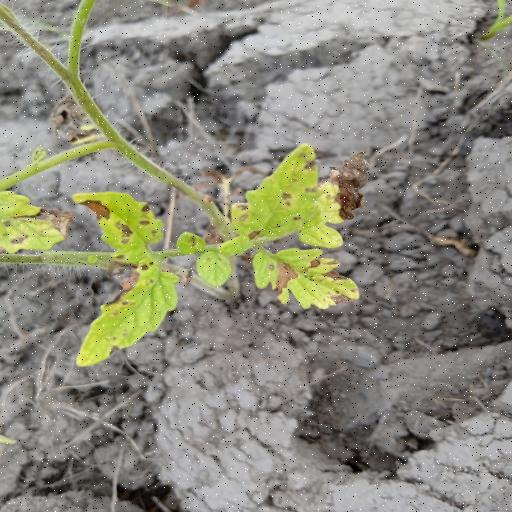Tomato_Brown_Spots: (71, 261, 180, 370), (227, 140, 328, 248), (250, 242, 365, 316), (70, 188, 170, 256)
